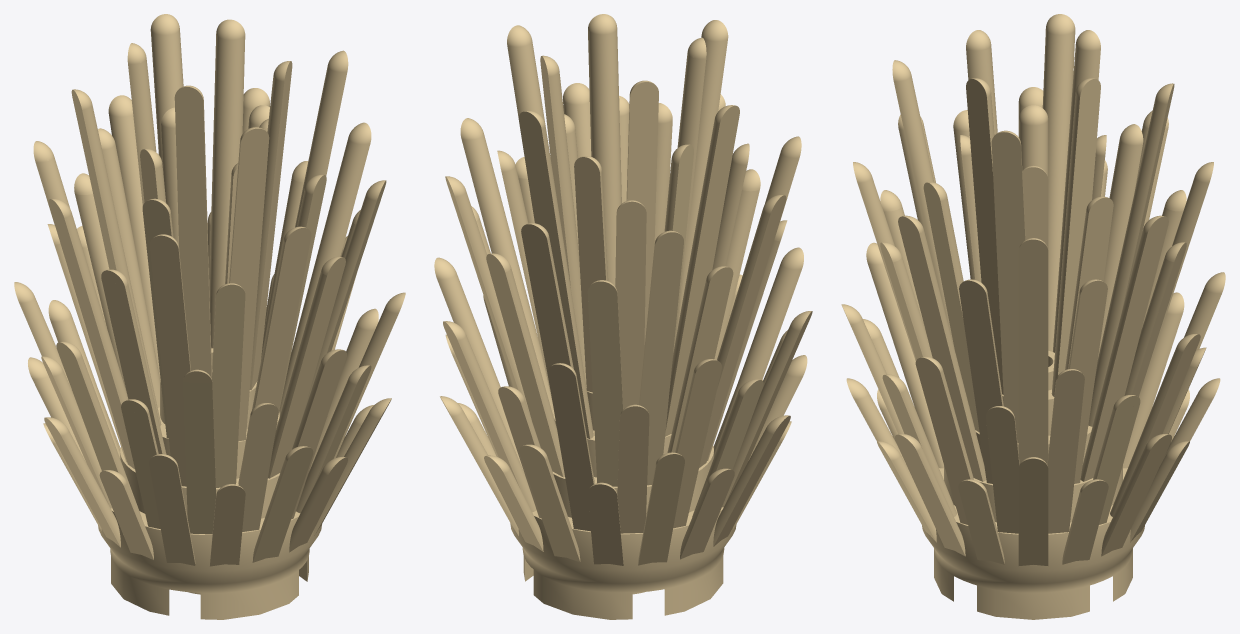
The model's file is hierba.dae.
3 views of the same model, side by side, from view 1: azimuth 30°, elevation 25°; view 2: azimuth 150°, elevation 25°; view 3: azimuth 270°, elevation 25° (orthographic).
Parts seen in each view (by area): view 1: Inner-Node-UntitledModel_dot_io-0; view 2: Inner-Node-UntitledModel_dot_io-0; view 3: Inner-Node-UntitledModel_dot_io-0.
Part boxes in pixels (x1,y1,x2,y2): Inner-Node-UntitledModel_dot_io-0: (14,14,405,619); Inner-Node-UntitledModel_dot_io-0: (434,14,812,619); Inner-Node-UntitledModel_dot_io-0: (841,14,1225,619).
Bounding box in the file's own units: 77.1 × 116 × 77.1.
